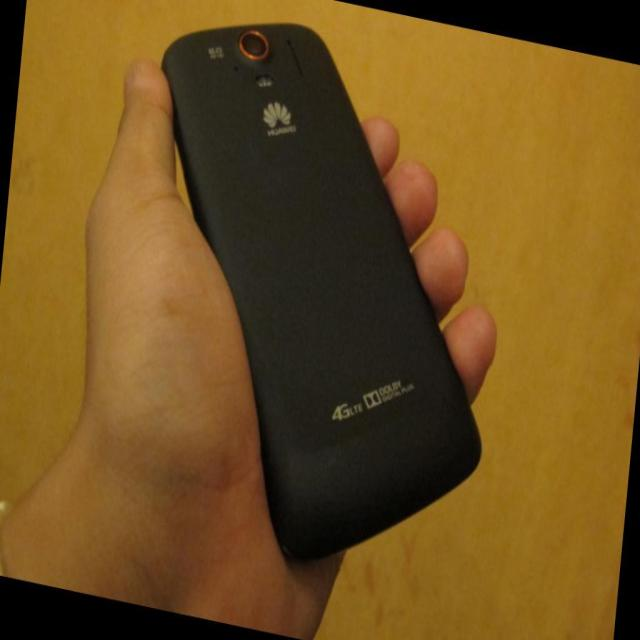handphone: (178, 14, 433, 541)
